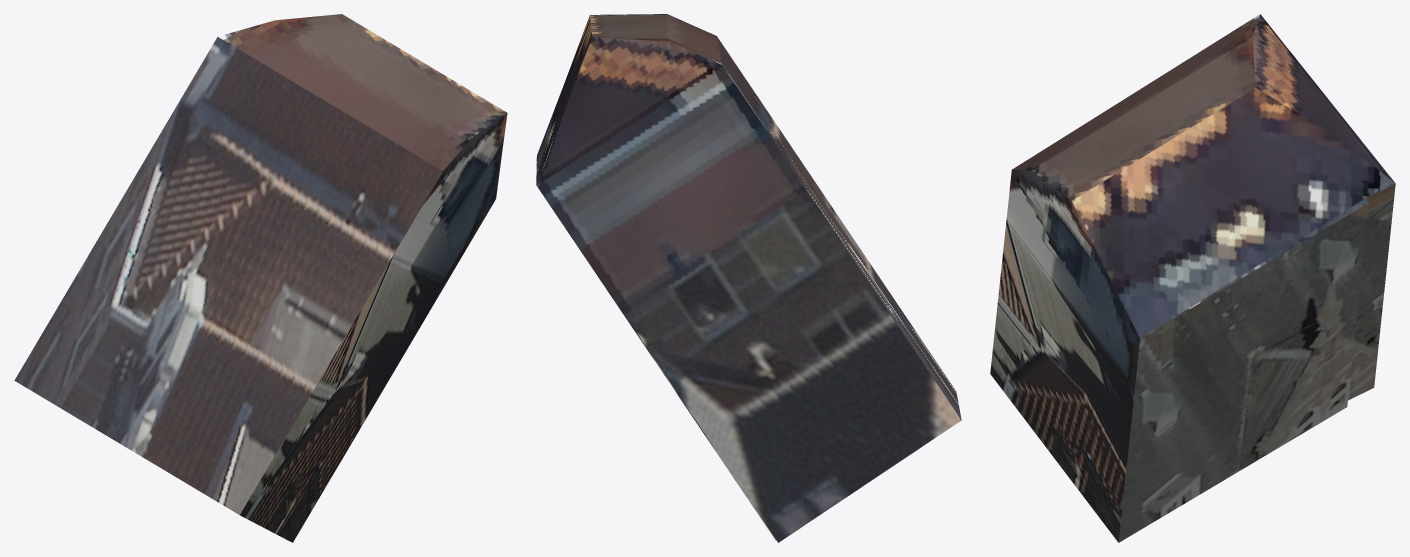
3 renders of one model, left to right at view 1: azimuth 30°, elevation 25°; view 2: azimuth 150°, elevation 25°; view 3: azimuth 270°, elevation 25°, orthographic. The views are drawn at different scales.
Parts seen in each view (by area): view 1: BAG_0599100000760361 (×3); view 2: BAG_0599100000760361 (×4); view 3: BAG_0599100000760361 (×4).
Part boxes in pixels (bbox=[...]): BAG_0599100000760361 (×3): bbox=[14, 14, 507, 542]; BAG_0599100000760361 (×4): bbox=[536, 14, 961, 542]; BAG_0599100000760361 (×4): bbox=[990, 14, 1395, 542].
Size of the model in its own units: 12.36 by 12.65 by 8.79.
Materials: 1 (1 with a texture image).
